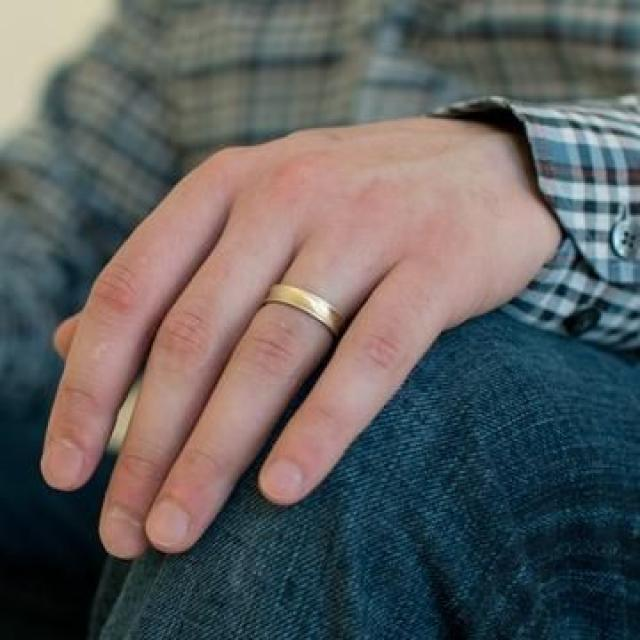Fingernail: (44, 438, 83, 491), (103, 509, 144, 559), (148, 499, 188, 549), (262, 458, 303, 503)
